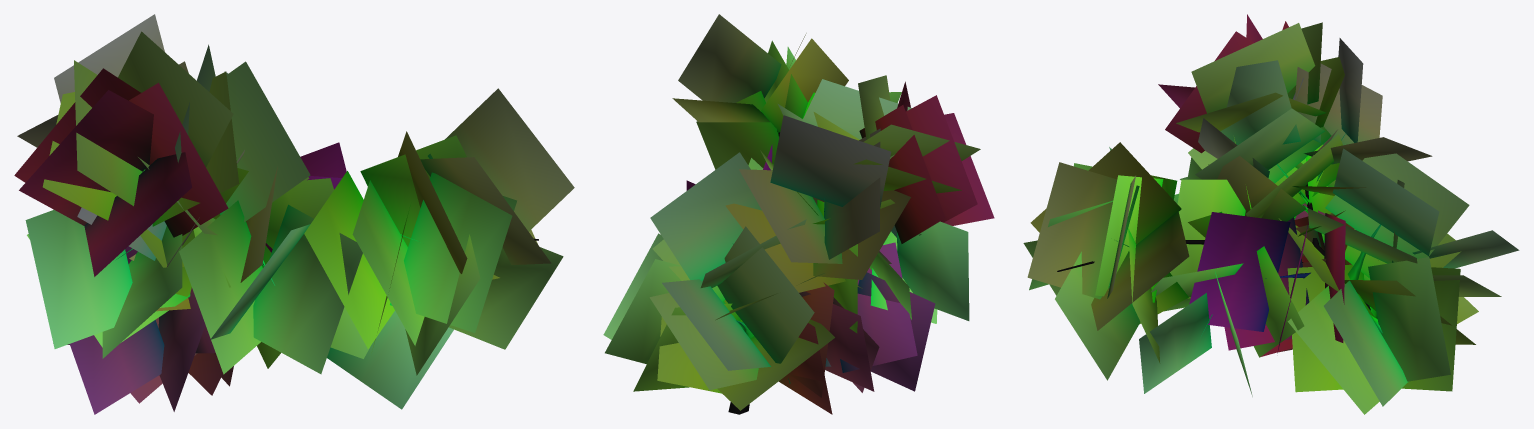
The model's file is URP_P15_Tree_8_LOD_3.fbx.
3 renders of one model, left to right at view 1: azimuth 30°, elevation 25°; view 2: azimuth 150°, elevation 25°; view 3: azimuth 270°, elevation 25°, orthographic. The views are drawn at different scales.
Visible parts, largest first — view 1: Tree_8_LOD_3; view 2: Tree_8_LOD_3; view 3: Tree_8_LOD_3.
Part boxes in pixels (box(x1,y1,x2,y2)): Tree_8_LOD_3: box(14, 14, 574, 414); Tree_8_LOD_3: box(603, 14, 994, 414); Tree_8_LOD_3: box(1023, 14, 1519, 414).
Size of the model in its own units: 715 by 554 by 789.
